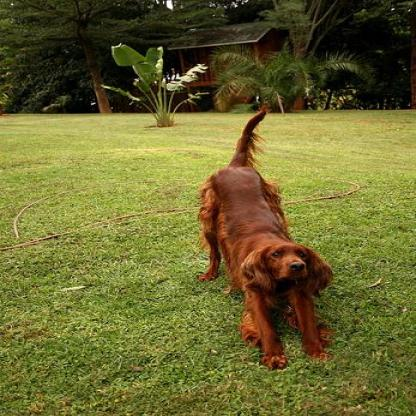Irish_setter: (197, 100, 338, 368)
